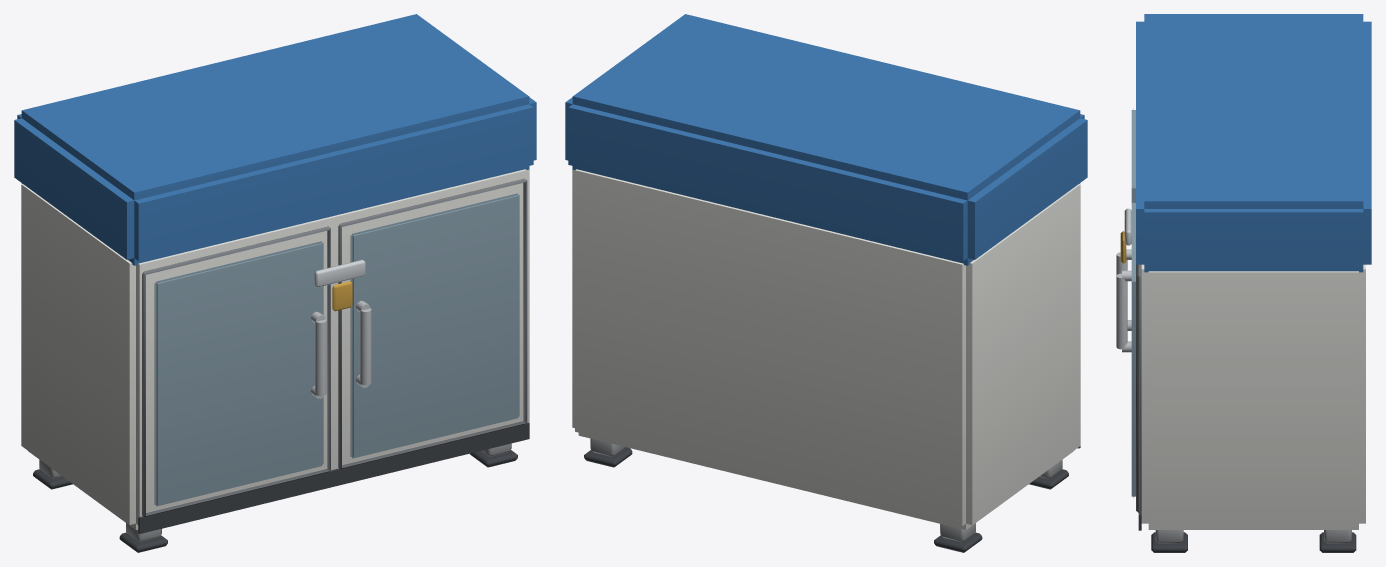
Rendered from IceChest_Outdoor_01.glb.
3 views of the same model, side by side, from view 1: azimuth 30°, elevation 25°; view 2: azimuth 150°, elevation 25°; view 3: azimuth 270°, elevation 25° (orthographic). The views are drawn at different scales.
Visible parts, largest first — view 1: SM_IceChest_Outdoor_01; view 2: SM_IceChest_Outdoor_01; view 3: SM_IceChest_Outdoor_01.
Boxes of the visible parts, x1,y1,x2,y2 form: SM_IceChest_Outdoor_01: (14, 14, 536, 552); SM_IceChest_Outdoor_01: (565, 14, 1087, 552); SM_IceChest_Outdoor_01: (1116, 14, 1371, 552).
Size of the model in its own units: 1.64 by 1.4 by 0.91.
1 material, 1 textured.
